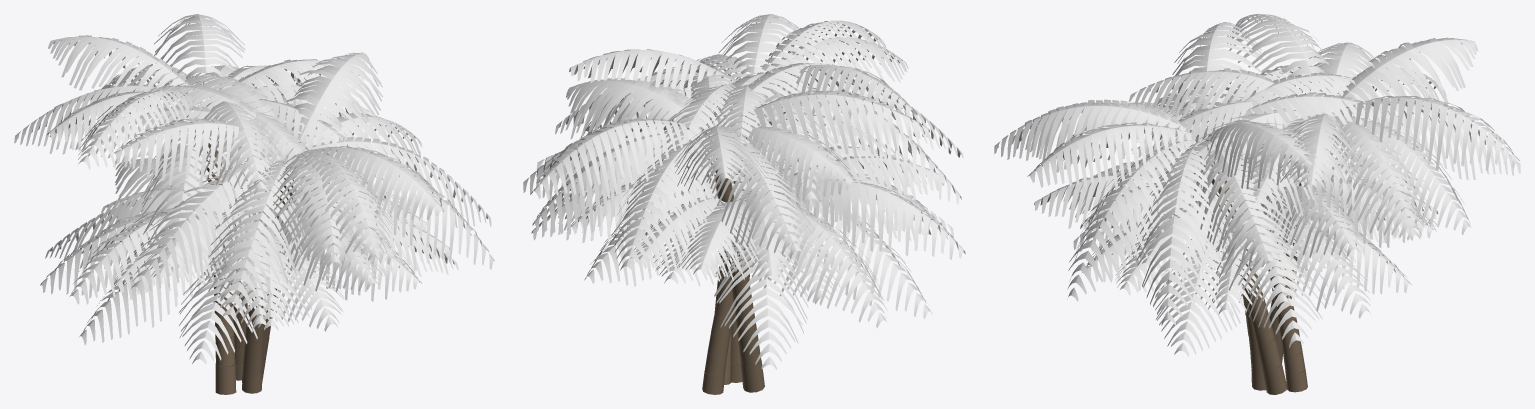
File: m_areca_902.fbx
The picture shows the model from 3 angles, left to right: view 1: azimuth 30°, elevation 25°; view 2: azimuth 150°, elevation 25°; view 3: azimuth 270°, elevation 25°; orthographic projection. The views are drawn at different scales.
Visible parts, largest first — view 1: m_areca_902; view 2: m_areca_902; view 3: m_areca_902.
Boxes of the visible parts, bbox=[...] form: m_areca_902: bbox=[14, 14, 494, 394]; m_areca_902: bbox=[523, 14, 965, 394]; m_areca_902: bbox=[994, 14, 1520, 394].
Bounding box in the file's own units: 1530 × 1148 × 1753.
